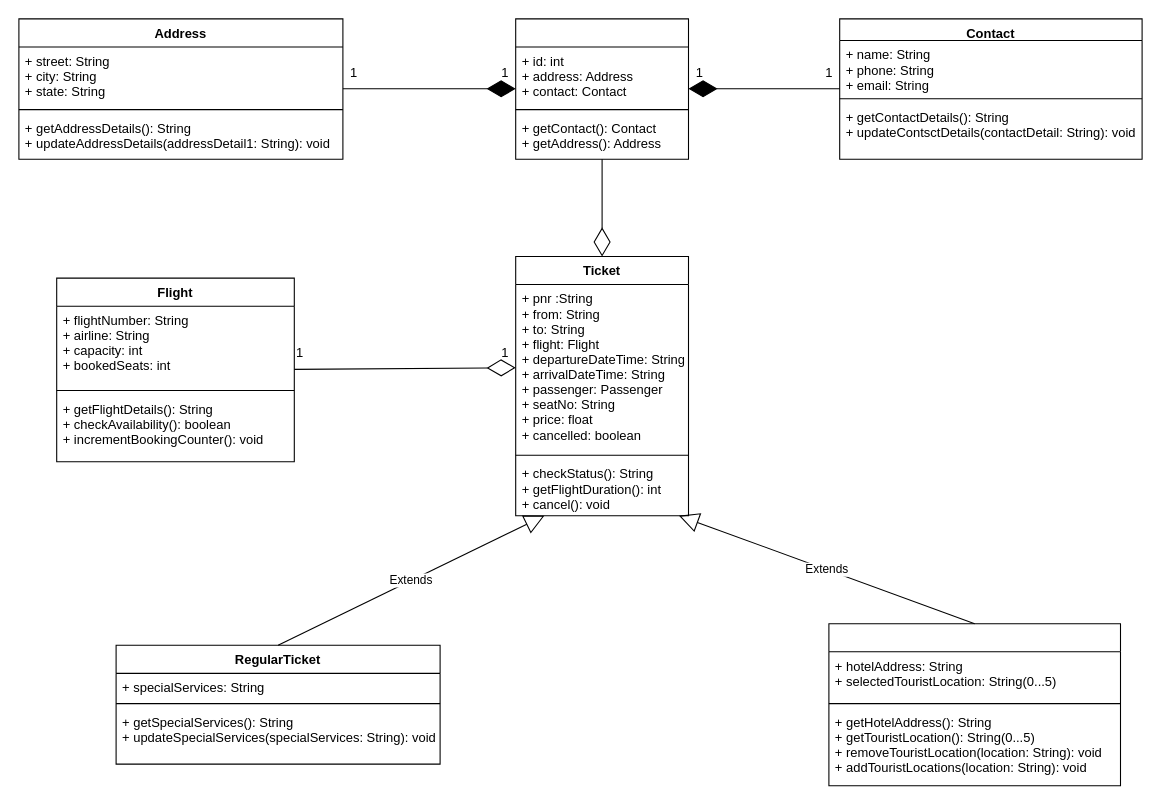
The diagram is 1161 pixels wide and 808 high, and some of its shapes have lost their labels. Each missing label, with the box of its shape:
Passenger: (515, 18, 688, 159)
TouristTicket: (828, 623, 1120, 786)
